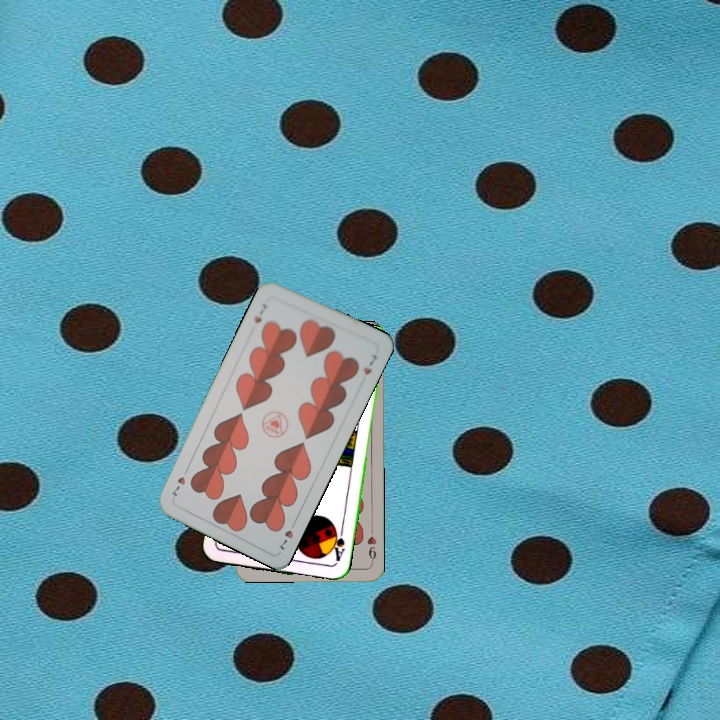H7: (276, 516, 299, 553), (250, 299, 270, 326)
H9: (363, 525, 379, 565)
SA: (327, 525, 347, 567)
